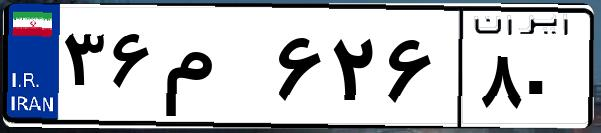0: (525, 38, 570, 115)
2: (330, 28, 385, 110)
3: (57, 26, 110, 100)
6: (270, 28, 330, 110), (385, 28, 445, 110), (110, 28, 158, 98)
8: (475, 38, 525, 113)
م: (158, 20, 270, 120)
